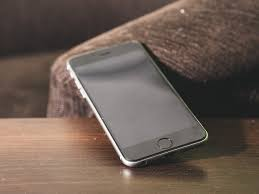mobil: (64, 38, 210, 169)
